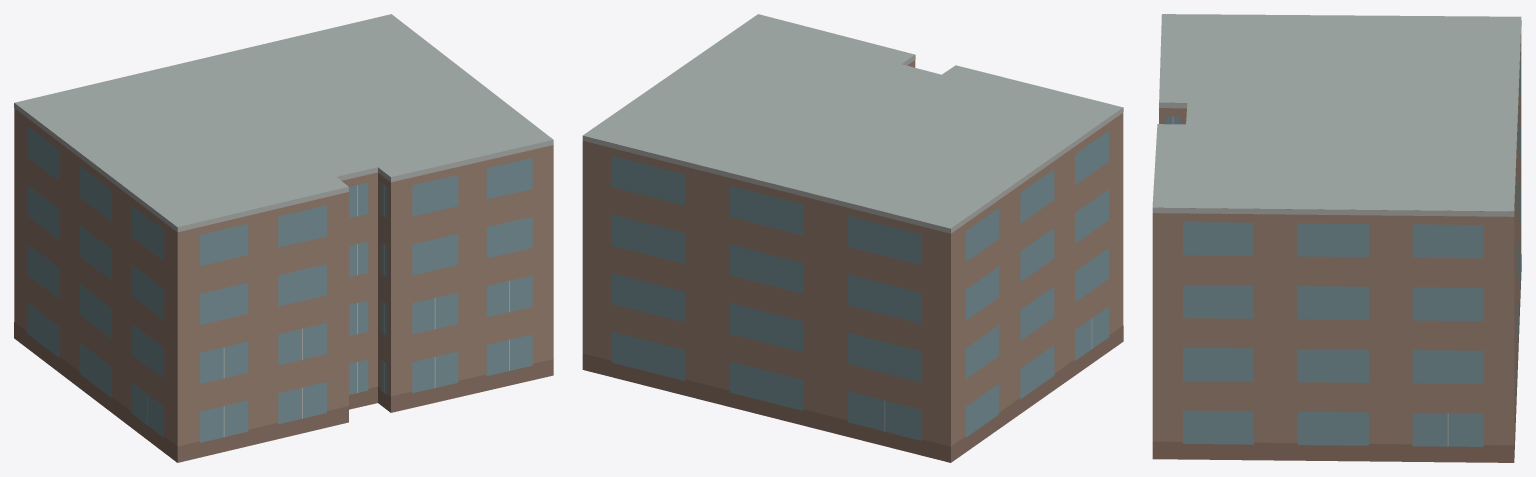
The model's file is survey-upis-33038197.glb.
3 views of the same model, side by side, from view 1: azimuth 30°, elevation 25°; view 2: azimuth 150°, elevation 25°; view 3: azimuth 270°, elevation 25° (orthographic). The views are drawn at different scales.
Parts seen in each view (by area): view 1: survey-upis-33038197.tmp; view 2: survey-upis-33038197.tmp; view 3: survey-upis-33038197.tmp.
Part boxes in pixels (box(x1,y1,x2,y2)): survey-upis-33038197.tmp: box(14, 14, 553, 462); survey-upis-33038197.tmp: box(582, 14, 1123, 462); survey-upis-33038197.tmp: box(1152, 14, 1521, 462).
Bounding box in the file's own units: 19.04 × 11.3 × 15.04.
